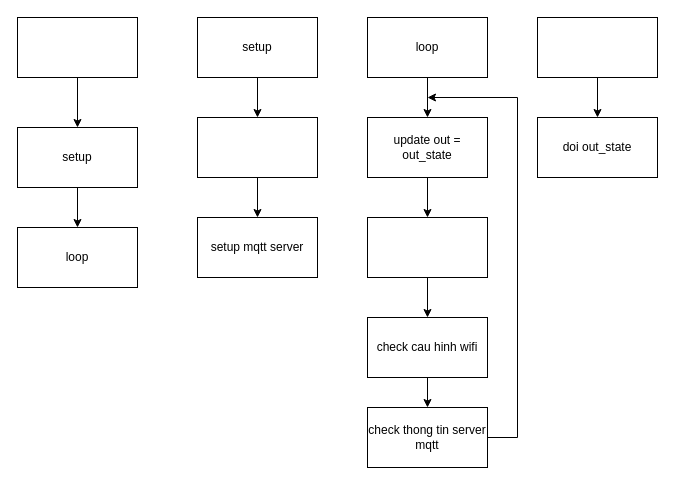
Some shapes in this 675 by 485 pixel diagram are drawn without their labels. Each missing label, with the box of its shape:
begin: (16, 16, 138, 78)
isr: (536, 16, 658, 78)
setup I/O pin: (196, 116, 318, 178)
update trang thai output: (366, 216, 488, 278)
